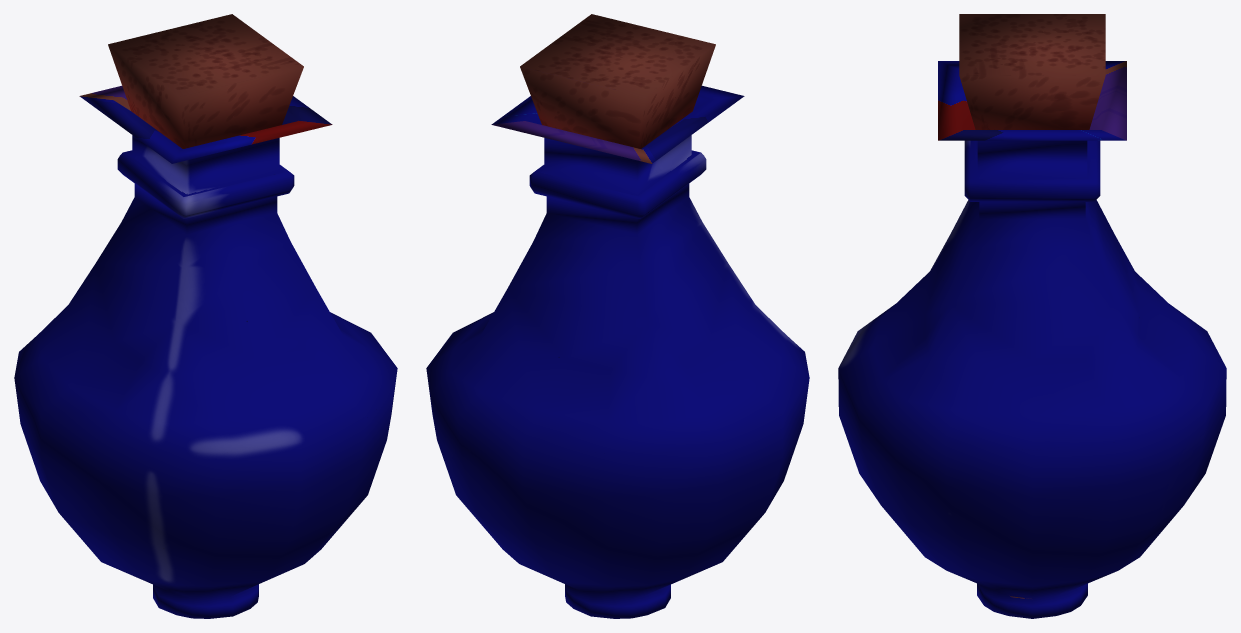
3 renders of one model, left to right at view 1: azimuth 30°, elevation 25°; view 2: azimuth 150°, elevation 25°; view 3: azimuth 270°, elevation 25°, orthographic.
Parts seen in each view (by area): view 1: Plane.001; view 2: Plane.001; view 3: Plane.001.
Part boxes in pixels (x1,y1,x2,y2): Plane.001: [14, 14, 397, 618]; Plane.001: [426, 14, 809, 618]; Plane.001: [838, 14, 1226, 618].
Bounding box in the file's own units: 0.1532 × 0.2398 × 0.1532.
